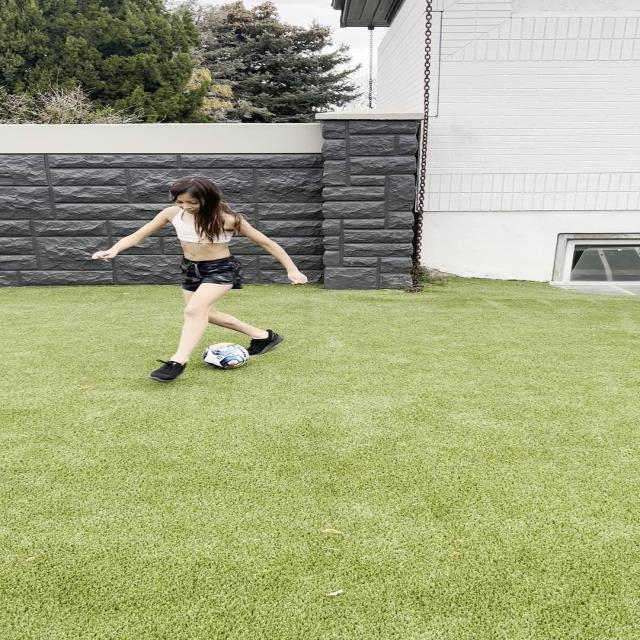Soccer Ball: (203, 342, 247, 368)
